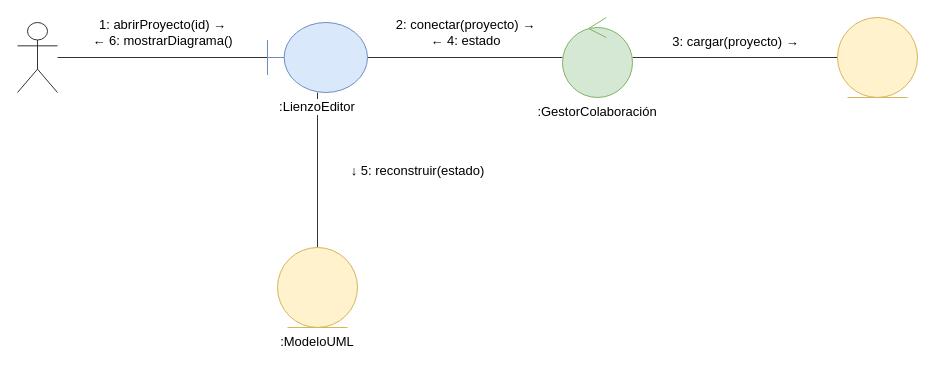
The diagram is 950 pixels wide and 368 high, and some of its shapes have lost their labels. Each missing label, with the centre of its shape:
:EstadoDocumento: point 877,57
Lector: point 37,57
